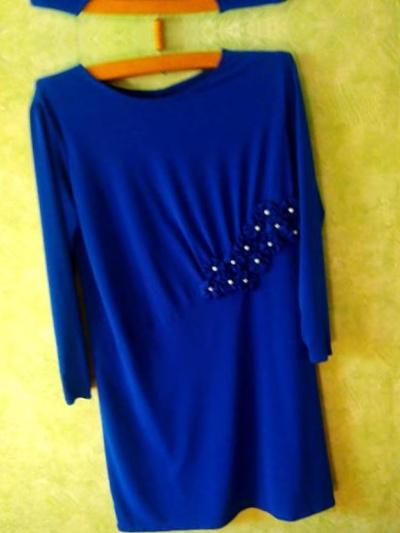Dress: (15, 36, 378, 533), (0, 0, 345, 30)
